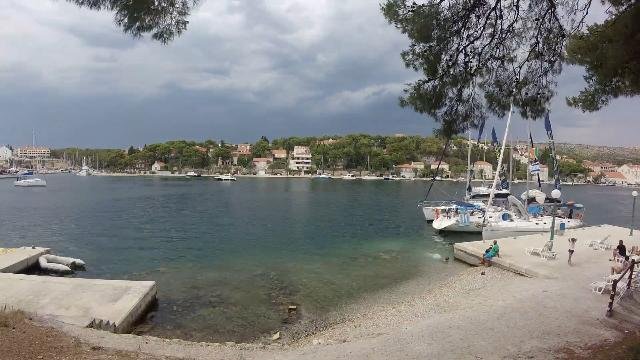Sailboat: (8, 171, 52, 189)
speedboat: (212, 169, 240, 183), (184, 167, 202, 181)
